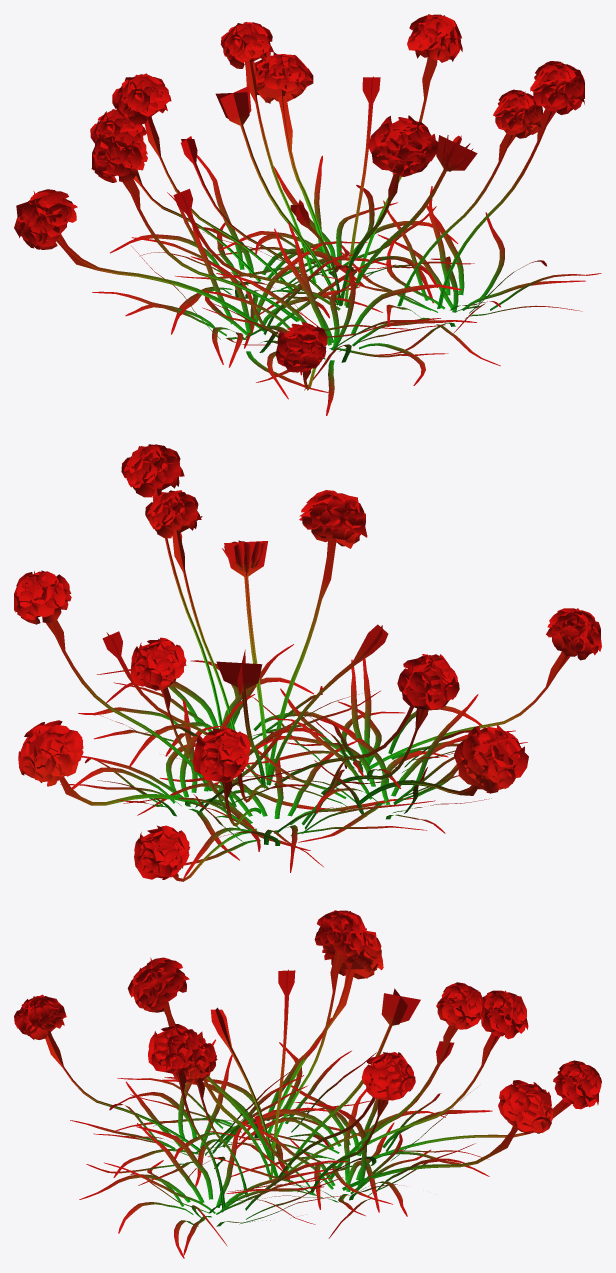
The model's file is Var4_LOD0.fbx.
The picture shows the model from 3 angles, top to bottom: view 1: azimuth 30°, elevation 25°; view 2: azimuth 150°, elevation 25°; view 3: azimuth 270°, elevation 25°; orthographic projection. The views are drawn at different scales.
Visible parts, largest first — view 1: _jwhe_Var4_LOD0; view 2: _jwhe_Var4_LOD0; view 3: _jwhe_Var4_LOD0.
Part boxes in pixels (bbox=[...]): _jwhe_Var4_LOD0: bbox=[14, 14, 601, 415]; _jwhe_Var4_LOD0: bbox=[14, 444, 601, 881]; _jwhe_Var4_LOD0: bbox=[14, 910, 601, 1258].
Size of the model in its own units: 31.29 by 14.91 by 34.65.
